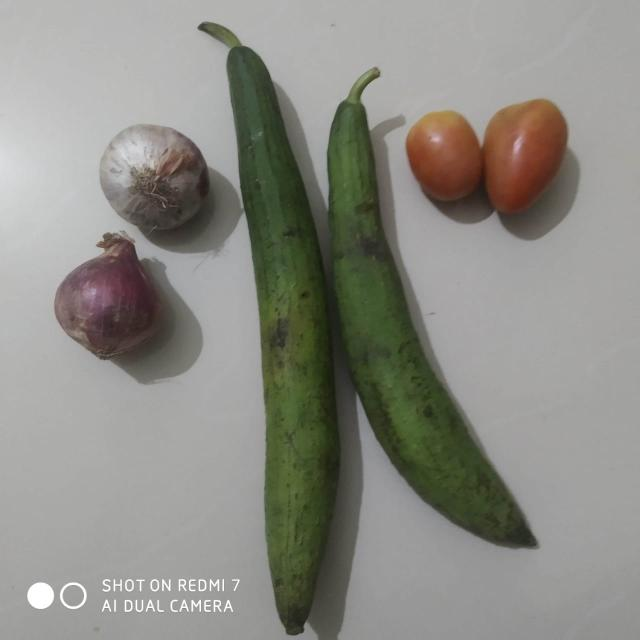Organik: (227, 9, 385, 637), (91, 110, 210, 237), (56, 238, 168, 365), (489, 96, 568, 216), (407, 106, 484, 212)
